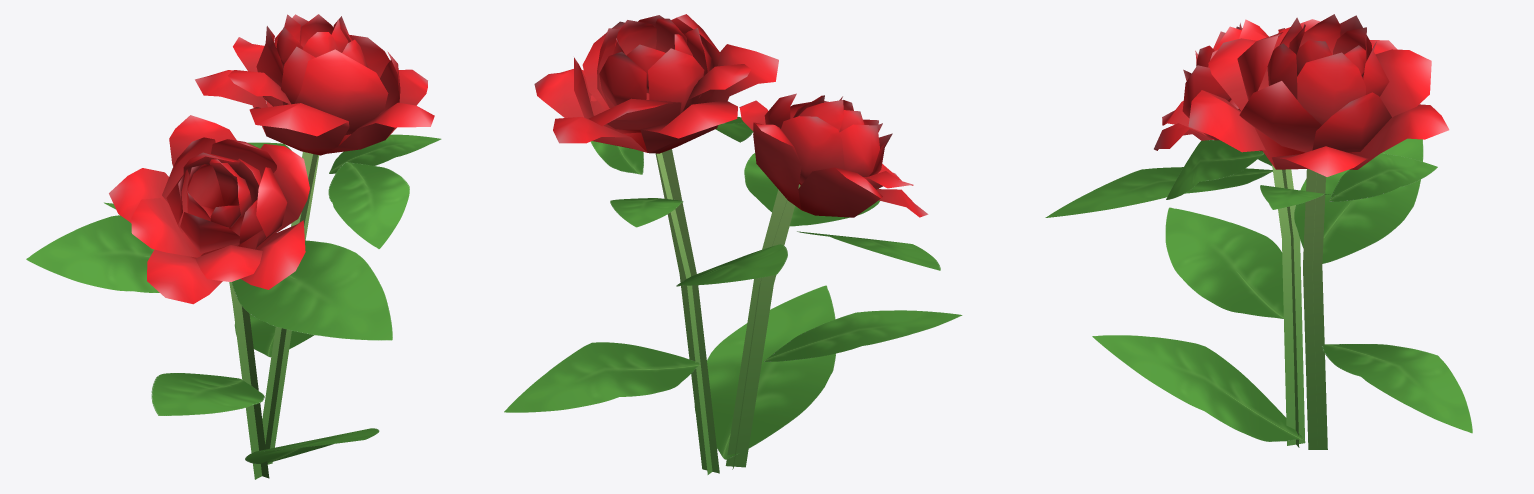
The model's file is rose2.fbx.
The picture shows the model from 3 angles, left to right: view 1: azimuth 30°, elevation 25°; view 2: azimuth 150°, elevation 25°; view 3: azimuth 270°, elevation 25°; orthographic projection. The views are drawn at different scales.
Parts seen in each view (by area): view 1: rose; view 2: rose; view 3: rose.
Boxes of the visible parts, <box> form: rose: <box>26,14,441,479</box>; rose: <box>504,14,962,474</box>; rose: <box>1045,14,1472,449</box>.
Size of the model in its own units: 2.52 by 2.42 by 2.43.
